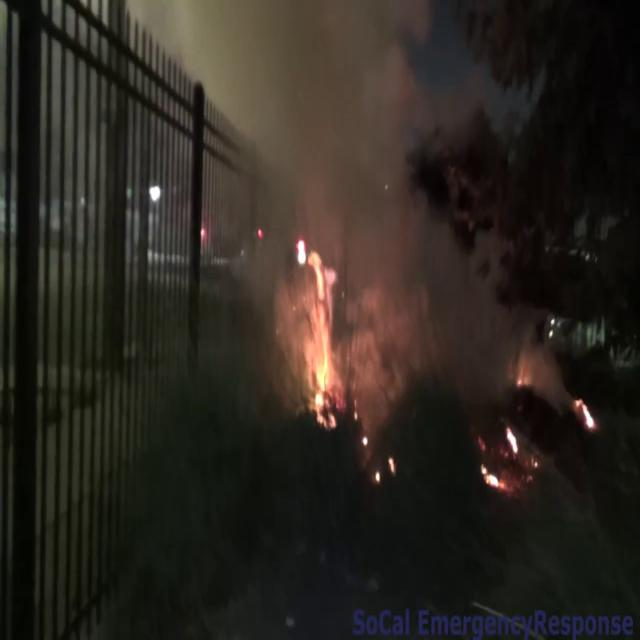Fire: (287, 234, 348, 422)
Smoke: (213, 0, 527, 405)
